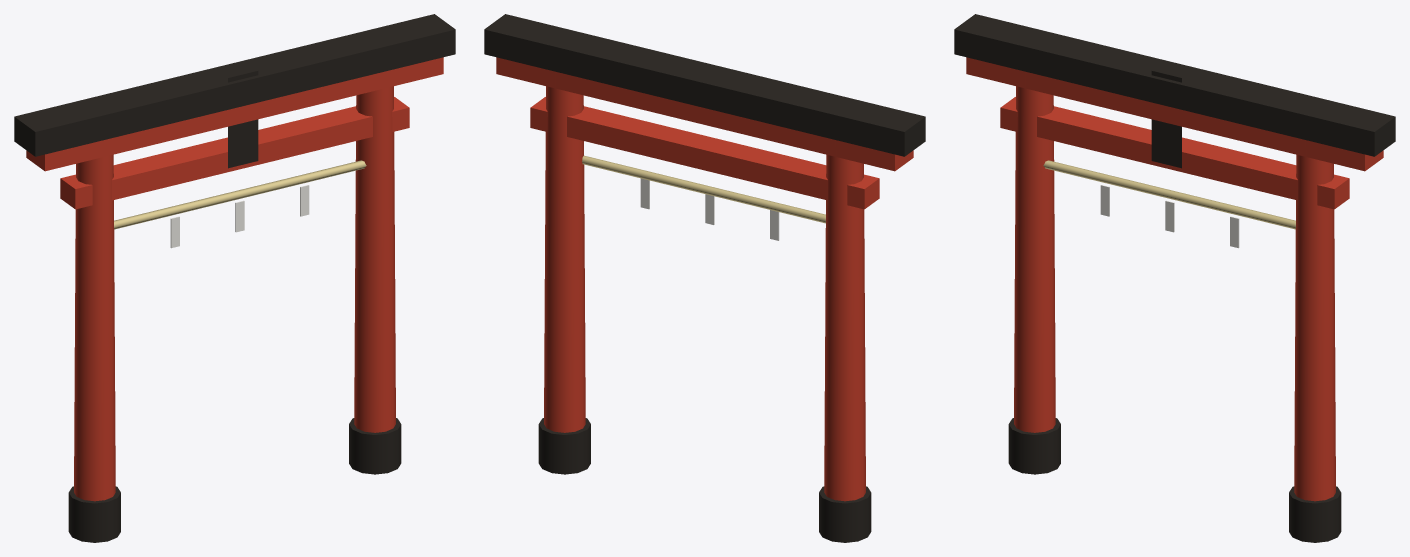
File: torii.glb
The picture shows the model from 3 angles, left to right: view 1: azimuth 30°, elevation 25°; view 2: azimuth 150°, elevation 25°; view 3: azimuth 330°, elevation 25°; orthographic projection.
Parts seen in each view (by area): view 1: torii_c8402a, torii_2a2622, torii_d8c890, torii_f6f4ee; view 2: torii_c8402a, torii_2a2622, torii_d8c890, torii_f6f4ee; view 3: torii_c8402a, torii_2a2622, torii_d8c890, torii_f6f4ee.
Boxes of the visible parts, x1,y1,x2,y2 form: torii_c8402a: [26, 57, 443, 501]; torii_2a2622: [14, 14, 455, 542]; torii_d8c890: [114, 160, 366, 229]; torii_f6f4ee: [170, 185, 309, 248]; torii_c8402a: [496, 57, 913, 501]; torii_2a2622: [484, 14, 925, 542]; torii_d8c890: [582, 155, 825, 223]; torii_f6f4ee: [640, 178, 779, 240]; torii_c8402a: [966, 57, 1383, 501]; torii_2a2622: [954, 14, 1395, 542]; torii_d8c890: [1043, 160, 1295, 229]; torii_f6f4ee: [1100, 185, 1239, 248].
Size of the model in its own units: 3.9 by 3.81 by 0.42.
